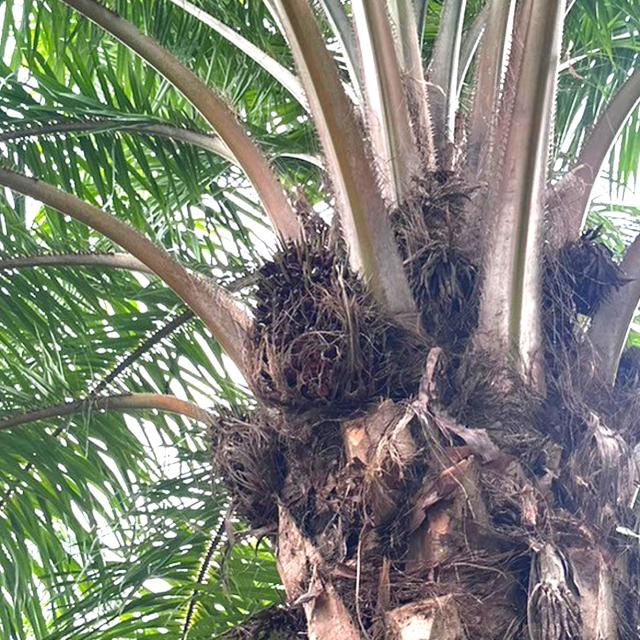ripe: (230, 221, 397, 419)
